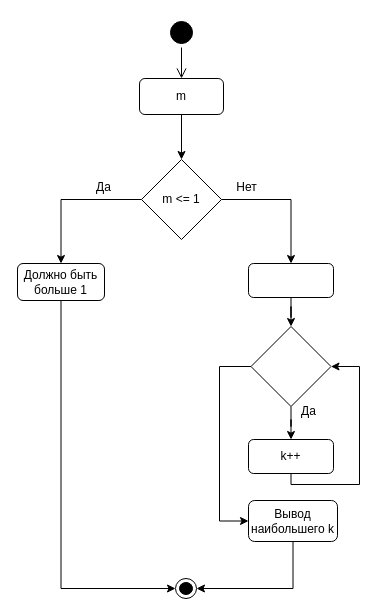
This 385x616 diagram has some shape labels left out. Each missing label, with the centre of its shape:
"(4^(k+1)) < m" goes at pixel 290 366.
"k = 0" goes at pixel 291 280.
